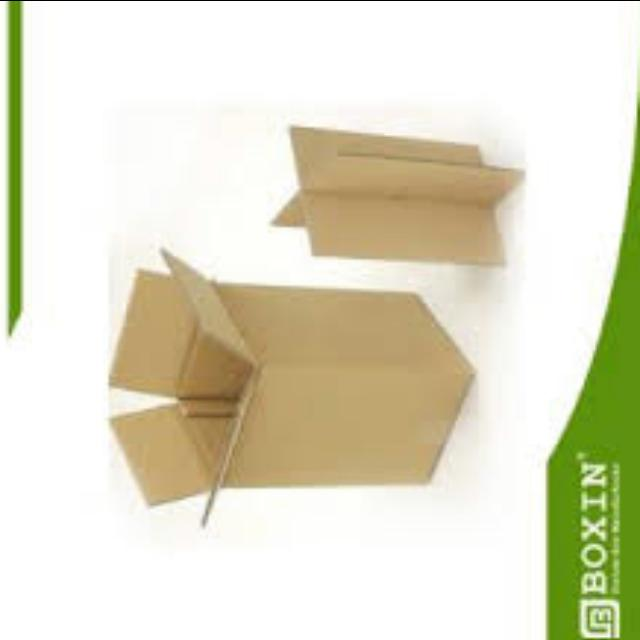cardboard paper: (106, 258, 467, 508), (270, 132, 517, 267)
